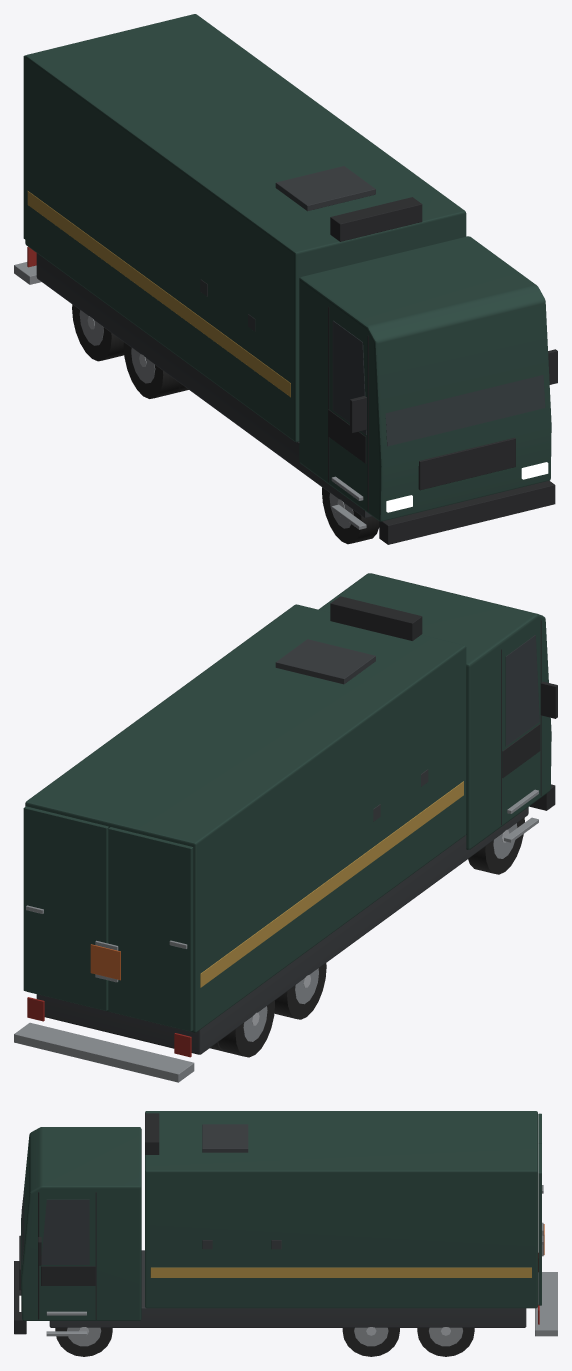
File: veh_armored_truck_bullion.glb
3 views of the same model, one above another, from view 1: azimuth 30°, elevation 25°; view 2: azimuth 150°, elevation 25°; view 3: azimuth 270°, elevation 25° (orthographic). The views are drawn at different scales.
Visible parts, largest first — view 1: Body, Wheels, CabDoorLMesh; view 2: Body, RearDoorLMesh, RearDoorRMesh, Wheels, LockPlate, CabDoorLMesh; view 3: Body, Wheels, CabDoorRMesh, RearDoorRMesh.
Boxes of the visible parts, x1=… form: Body: x1=14, y1=14, x2=557, y2=544; Wheels: x1=72, y1=304, x2=379, y2=544; CabDoorLMesh: x1=328, y1=409, x2=366, y2=463; Body: x1=14, y1=573, x2=557, y2=1082; RearDoorLMesh: x1=108, y1=827, x2=193, y2=1031; RearDoorRMesh: x1=23, y1=806, x2=108, y2=1010; Wheels: x1=210, y1=818, x2=524, y2=1057; LockPlate: x1=90, y1=940, x2=120, y2=982; CabDoorLMesh: x1=502, y1=724, x2=540, y2=777; Body: x1=14, y1=1111, x2=557, y2=1336; Wheels: x1=55, y1=1327, x2=474, y2=1356; CabDoorRMesh: x1=41, y1=1266, x2=95, y2=1285; RearDoorRMesh: x1=538, y1=1143, x2=543, y2=1305.
Bounding box in the file's own units: 3 × 3.85 × 9.47.
